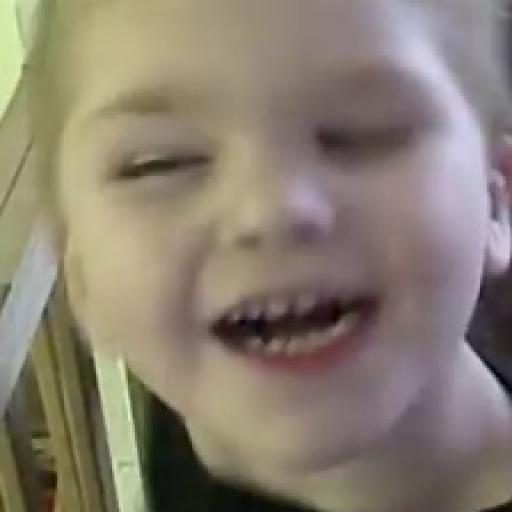Autism: (40, 0, 508, 455)
